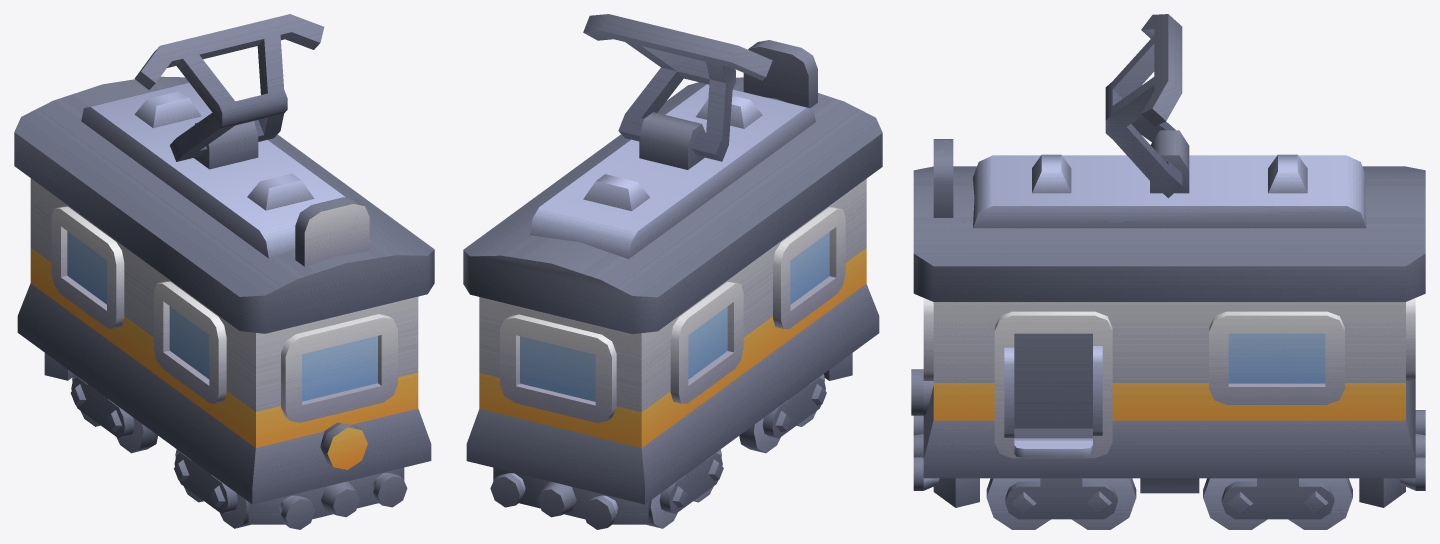
The model's file is train_tram_classic.glb.
The picture shows the model from 3 angles, left to right: view 1: azimuth 30°, elevation 25°; view 2: azimuth 150°, elevation 25°; view 3: azimuth 270°, elevation 25°; orthographic projection. The views are drawn at different scales.
Visible parts, largest first — view 1: train-tram-classic, collector, wheels-back, wheels-front; view 2: train-tram-classic, collector, wheels-front, wheels-back; view 3: train-tram-classic, collector, wheels-front, wheels-back.
Part boxes in pixels (x1,y1,x2,y2): train-tram-classic: (14, 76, 434, 529); collector: (134, 14, 324, 161); wheels-back: (70, 374, 157, 453); wheels-front: (174, 449, 250, 528); train-tram-classic: (463, 40, 882, 529); collector: (583, 14, 772, 161); wheels-front: (739, 374, 826, 453); wheels-back: (647, 449, 723, 528); train-tram-classic: (911, 130, 1425, 507); collector: (1105, 14, 1182, 198); wheels-front: (986, 478, 1136, 529); wheels-back: (1203, 478, 1352, 529).
Bounding box in the file's own units: 1.25 × 2.52 × 2.61.
Materials: 1 (1 with a texture image).
